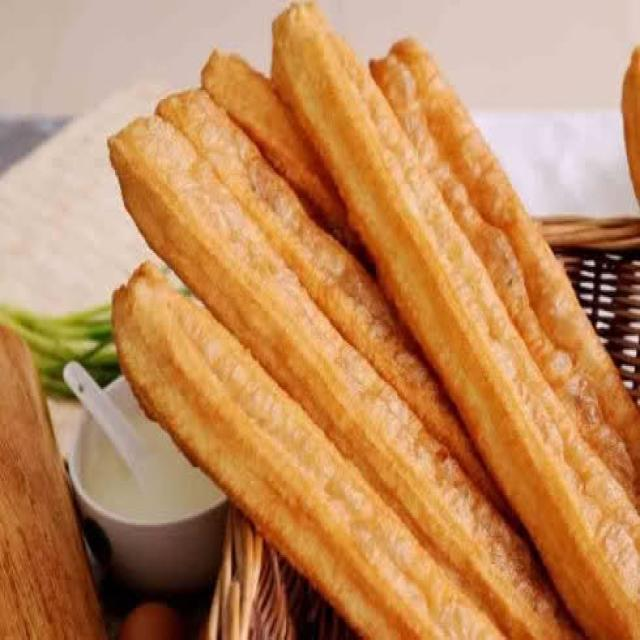炸货点心: (39, 12, 618, 610)
